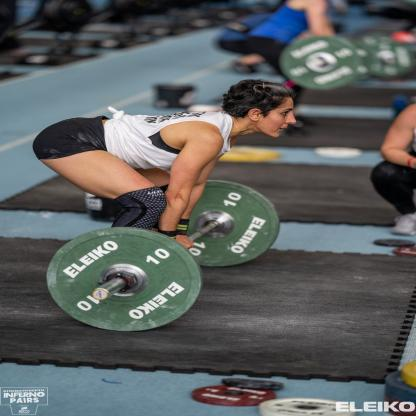barbell: (47, 228, 205, 333), (148, 181, 282, 268)
